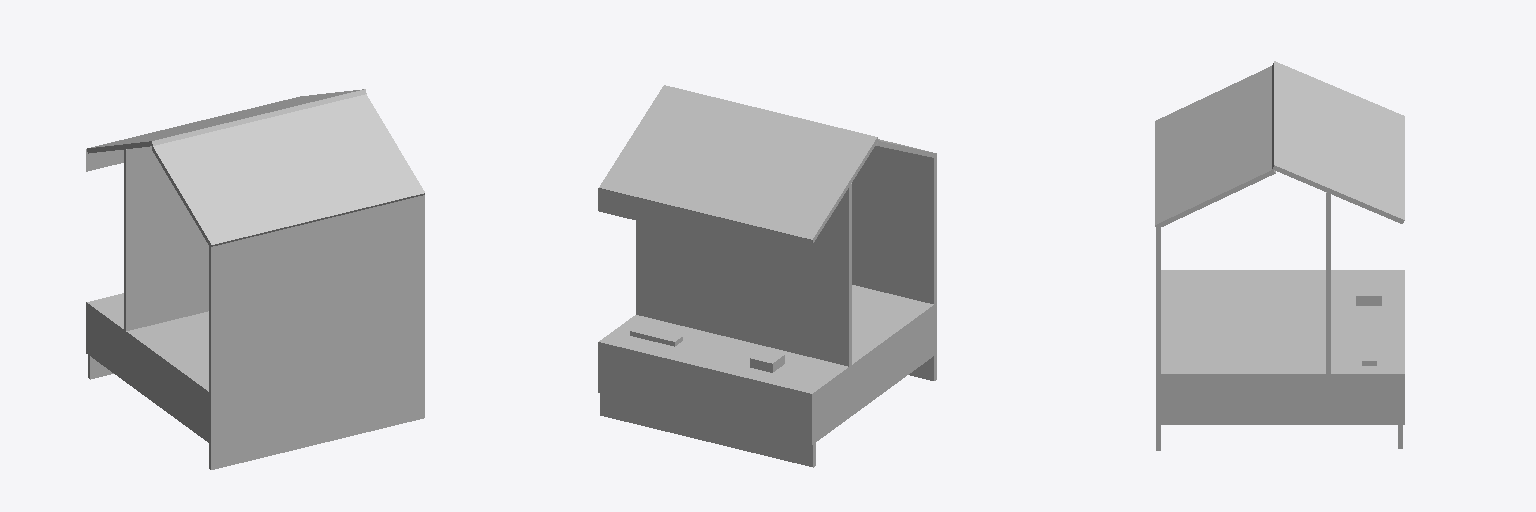
The model's file is barraca_praia.obj.
The picture shows the model from 3 angles: view 1: azimuth 30°, elevation 25°; view 2: azimuth 150°, elevation 25°; view 3: azimuth 270°, elevation 25°; orthographic projection.
Visible parts, largest first — view 1: haste2, teto, haste1, Block1, bandeiras1; view 2: Block1, teto, haste1, haste2, bandeiras1, pe_frente, panela; view 3: Block1, teto, haste2, panela, haste1.
Boxes of the visible parts, box(x1,y1,x2,y2) form: haste2: box(209, 195, 424, 469); teto: box(87, 89, 424, 247); haste1: box(124, 146, 208, 330); Block1: box(86, 293, 209, 443); bandeiras1: box(86, 100, 283, 171); Block1: box(598, 285, 933, 444); teto: box(599, 85, 936, 242); haste1: box(636, 183, 851, 366); haste2: box(852, 146, 936, 380); bandeiras1: box(598, 188, 811, 262); pe_frente: box(600, 394, 815, 467); panela: box(630, 326, 784, 372); Block1: box(1161, 270, 1404, 424); teto: box(1155, 61, 1404, 228); haste2: box(1156, 228, 1160, 450); panela: box(1356, 286, 1381, 365); haste1: box(1326, 192, 1330, 373).
Size of the model in its own units: 3 by 3.84 by 3.05.